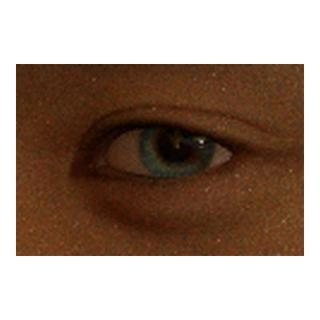pupil: (159, 126, 194, 162)
